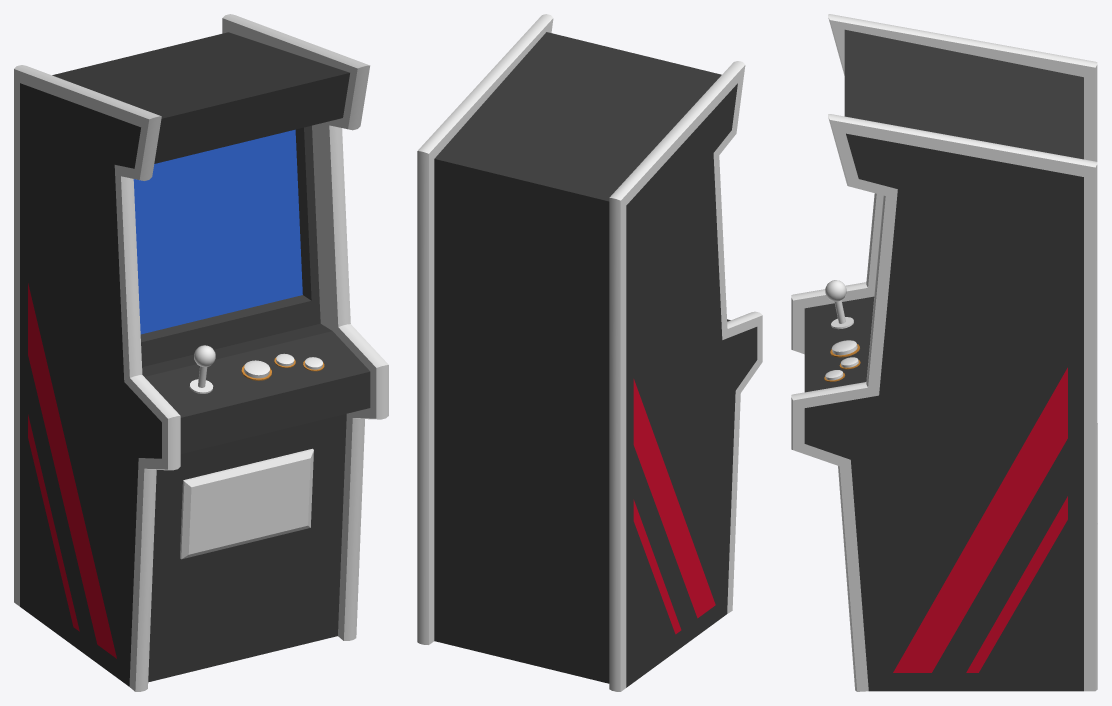
The model's file is ArcadeCabinet.fbx.
3 renders of one model, left to right at view 1: azimuth 30°, elevation 25°; view 2: azimuth 150°, elevation 25°; view 3: azimuth 270°, elevation 25°, orthographic. The views are drawn at different scales.
Visible parts, largest first — view 1: ArcadeCabinet; view 2: ArcadeCabinet; view 3: ArcadeCabinet.
Boxes of the visible parts, <box> form: ArcadeCabinet: <box>14,14,388,691</box>; ArcadeCabinet: <box>417,14,762,691</box>; ArcadeCabinet: <box>791,14,1097,691</box>.
Size of the model in its own units: 22.29 by 56.31 by 27.25.
